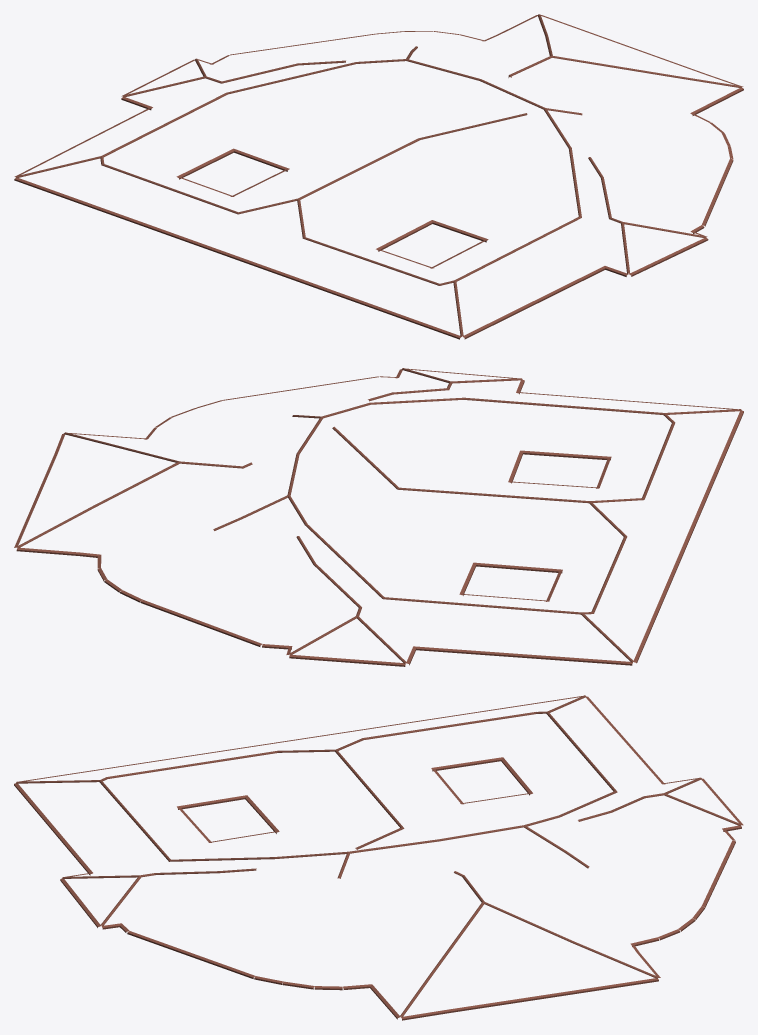
3 views of the same model, one above another, from view 1: azimuth 30°, elevation 25°; view 2: azimuth 150°, elevation 25°; view 3: azimuth 270°, elevation 25° (orthographic). The views are drawn at different scales.
Visible parts, largest first — view 1: detail; view 2: detail; view 3: detail.
Boxes of the visible parts, box(x1,y1,x2,y2) form: detail: box(14, 14, 743, 339); detail: box(14, 368, 743, 666); detail: box(14, 695, 743, 1020).
Size of the model in its own units: 69.95 by 5.94 by 66.73.
